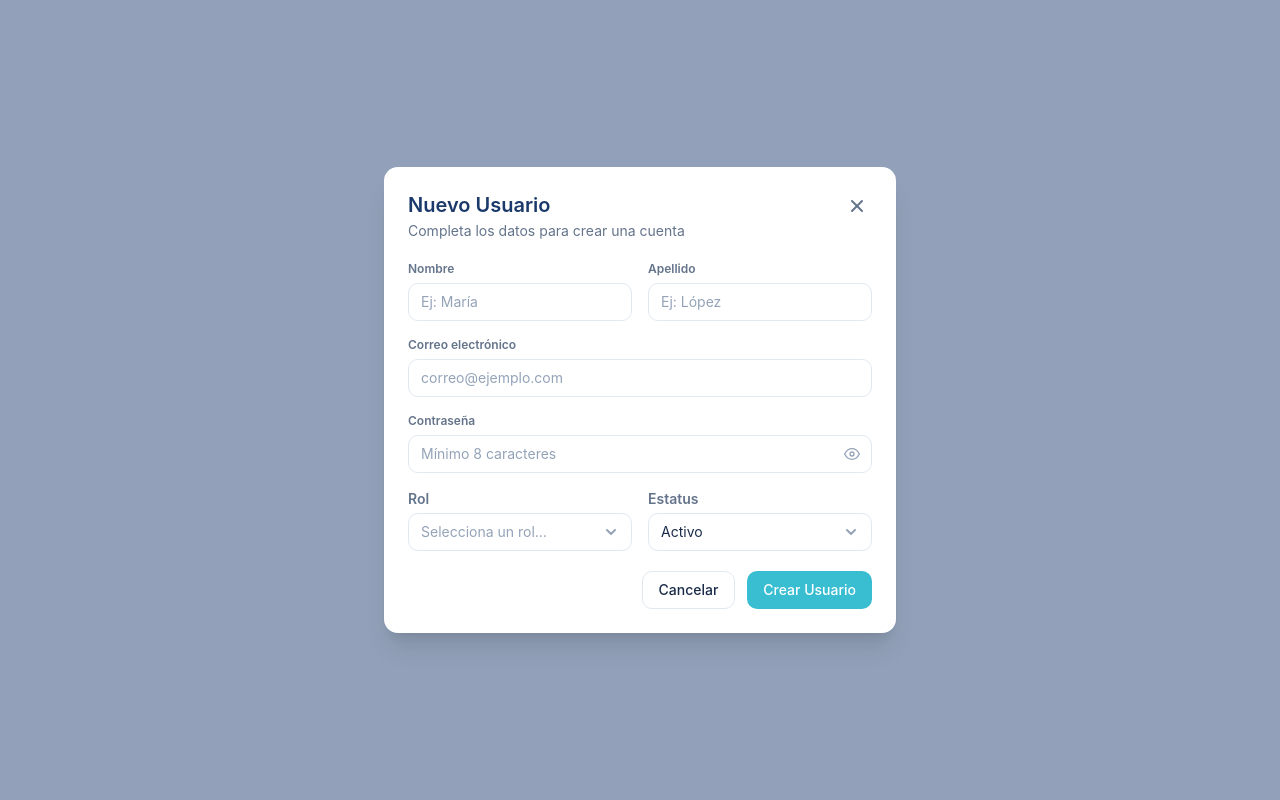
Test: CreateUserModal › muestra errores de campo requerido al enviar formulario vacío
Click the button "Crear Usuario": (810, 590) [747,571,872,609]
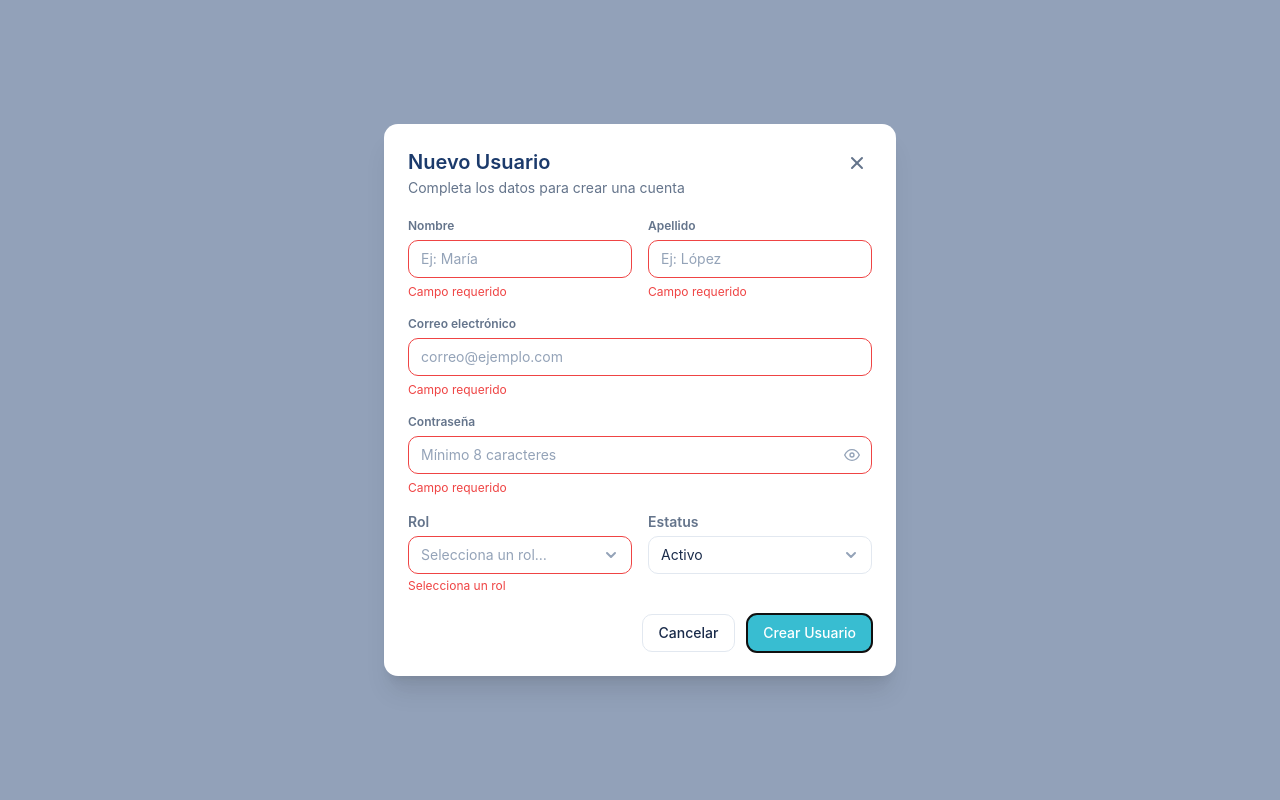
Expected: the text "Campo requerido" below "Nombre" is shown, [408,284,507,299]
